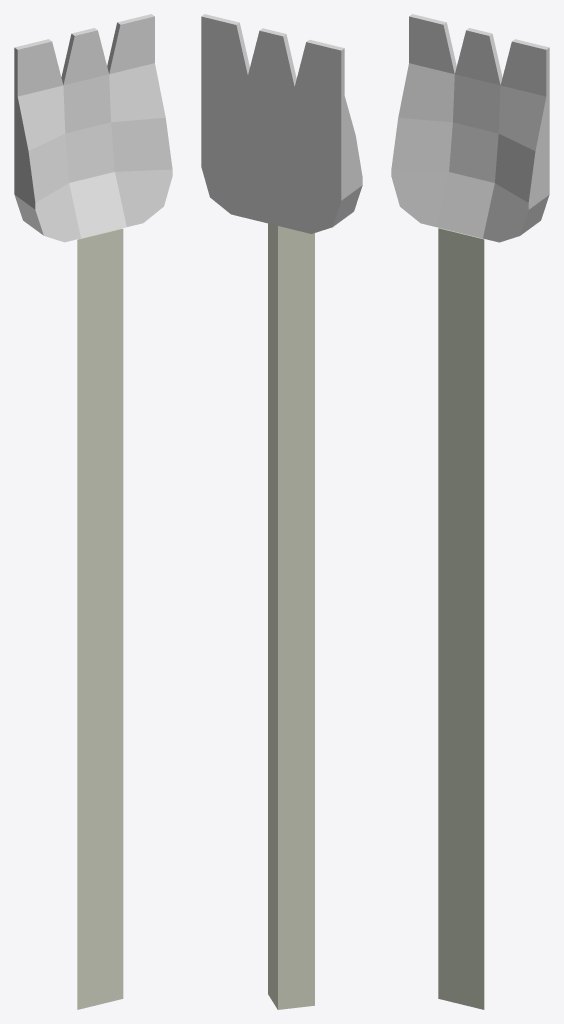
File: tenedor.fbx
3 renders of one model, left to right at view 1: azimuth 30°, elevation 25°; view 2: azimuth 150°, elevation 25°; view 3: azimuth 330°, elevation 25°, orthographic. The views are drawn at different scales.
Visible parts, largest first — view 1: tenedor mango, tenedor cabeza; view 2: tenedor mango, tenedor cabeza; view 3: tenedor mango, tenedor cabeza.
Part boxes in pixels (x1,y1,x2,y2): tenedor mango: (77,228,123,1009); tenedor cabeza: (14,14,172,242); tenedor mango: (268,223,314,1009); tenedor cabeza: (201,14,362,233); tenedor mango: (438,228,484,1009); tenedor cabeza: (391,14,549,242).
Size of the model in its own units: 1.49 by 0.3949 by 9.97.
